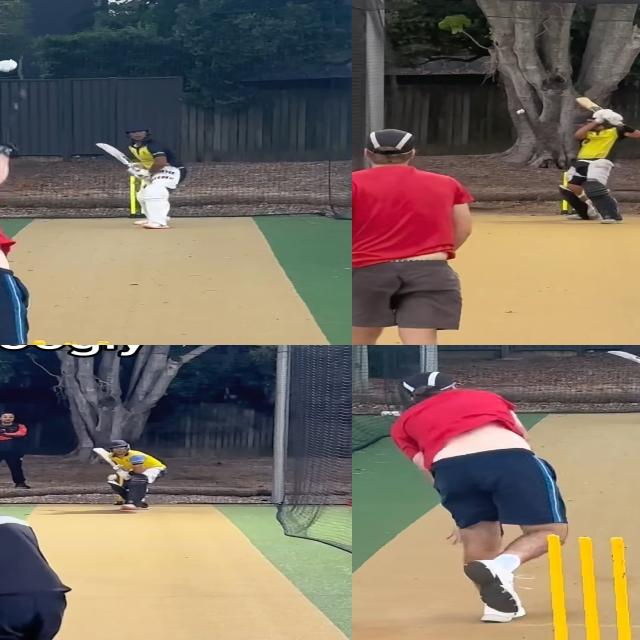Cricket ball: (0, 55, 28, 79), (514, 108, 527, 116), (107, 474, 118, 482)
Stumps: (538, 532, 639, 640)
